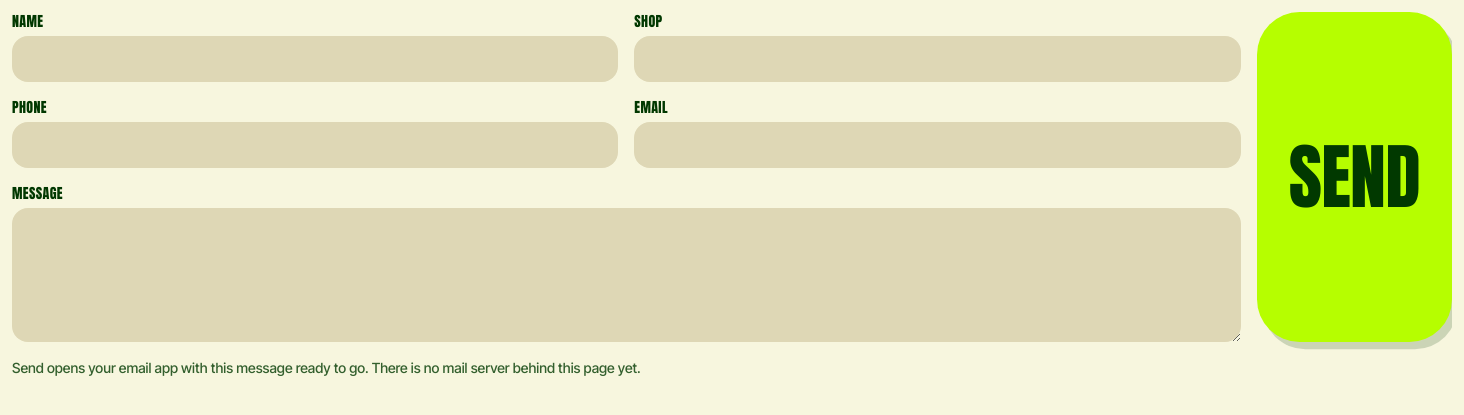
Test: Contact form › asks for a name and a message before it does anything
Click the button named "Send" at [1354, 177], box [1257,12,1452,342]
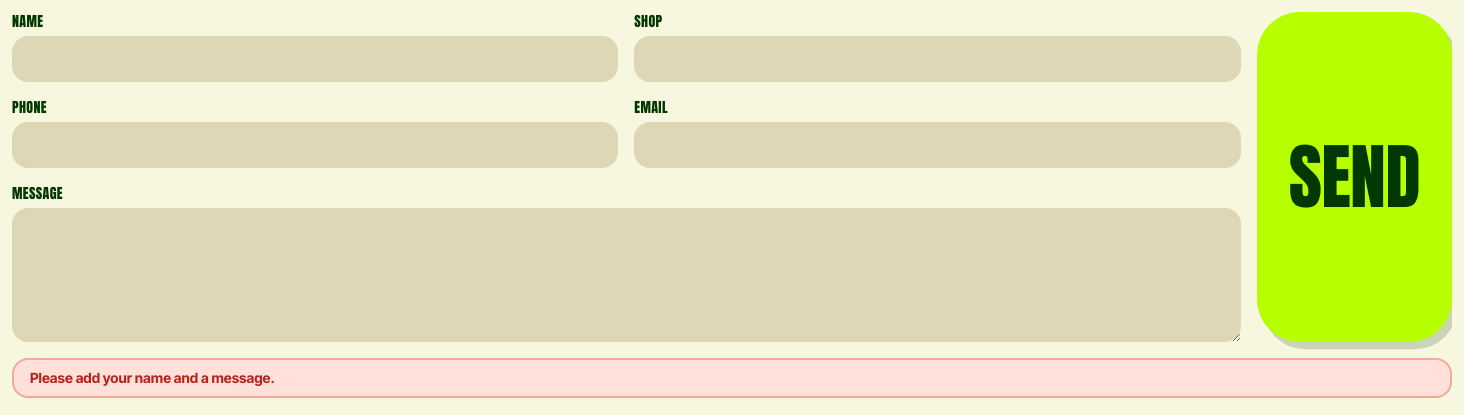
Expected: the message shows "name and a message", [30,369,275,386]
